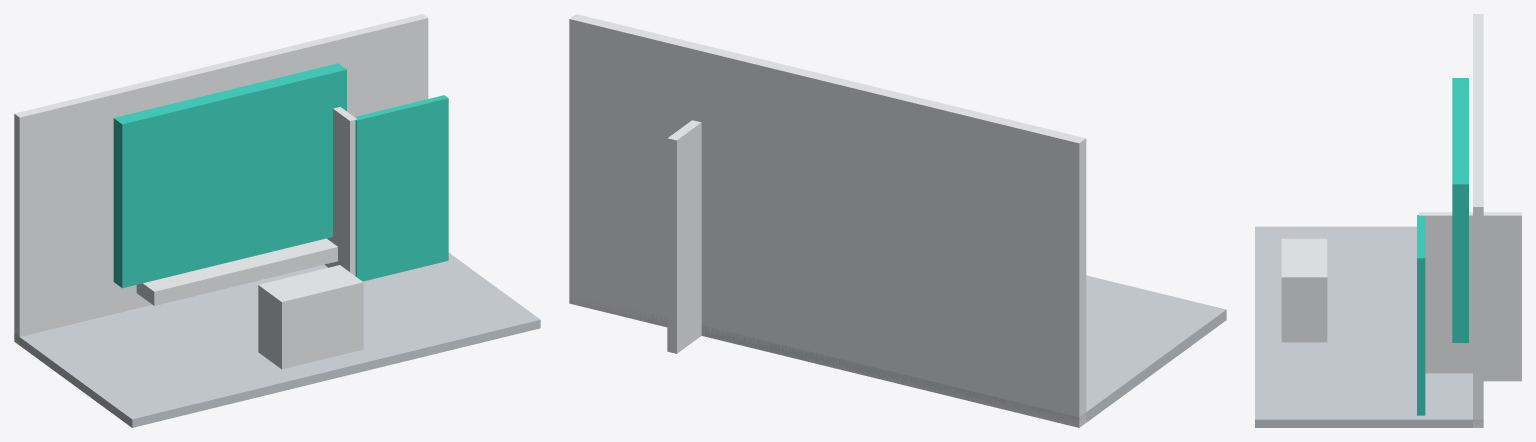
3 renders of one model, left to right at view 1: azimuth 30°, elevation 25°; view 2: azimuth 150°, elevation 25°; view 3: azimuth 270°, elevation 25°, orthographic. The views are drawn at different scales.
Parts seen in each view (by area): view 1: Exhibition Booth Concept; view 2: Exhibition Booth Concept; view 3: Exhibition Booth Concept.
Boxes of the visible parts, left/top/right/bottom form: Exhibition Booth Concept: left=14, top=14, right=540, bottom=427; Exhibition Booth Concept: left=569, top=14, right=1226, bottom=427; Exhibition Booth Concept: left=1255, top=14, right=1521, bottom=427.
Size of the model in its own units: 6 by 3.2 by 3.51.
